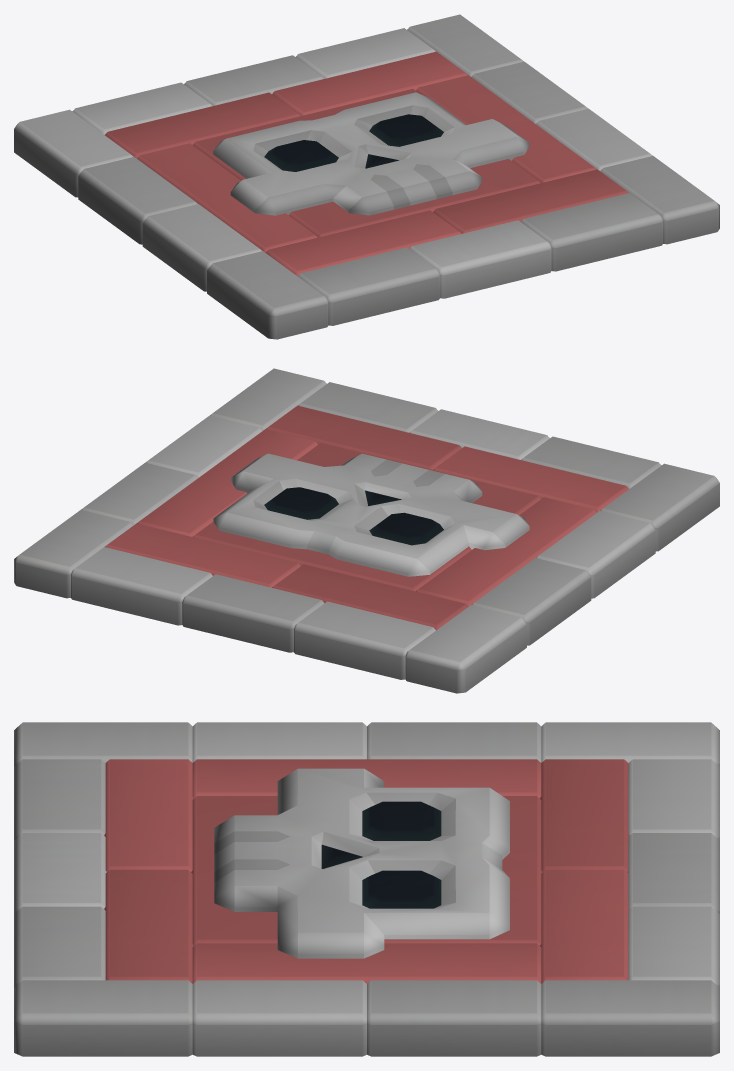
The model's file is floor_element_red.fbx.
3 renders of one model, top to bottom at view 1: azimuth 30°, elevation 25°; view 2: azimuth 150°, elevation 25°; view 3: azimuth 270°, elevation 25°, orthographic. The views are drawn at different scales.
Parts seen in each view (by area): view 1: floor_element_red; view 2: floor_element_red; view 3: floor_element_red.
Boxes of the visible parts, x1,y1,x2,y2 form: floor_element_red: (14,14,719,339); floor_element_red: (14,368,719,693); floor_element_red: (14,722,719,1056).
Bounding box in the file's own units: 405 × 42 × 405.
